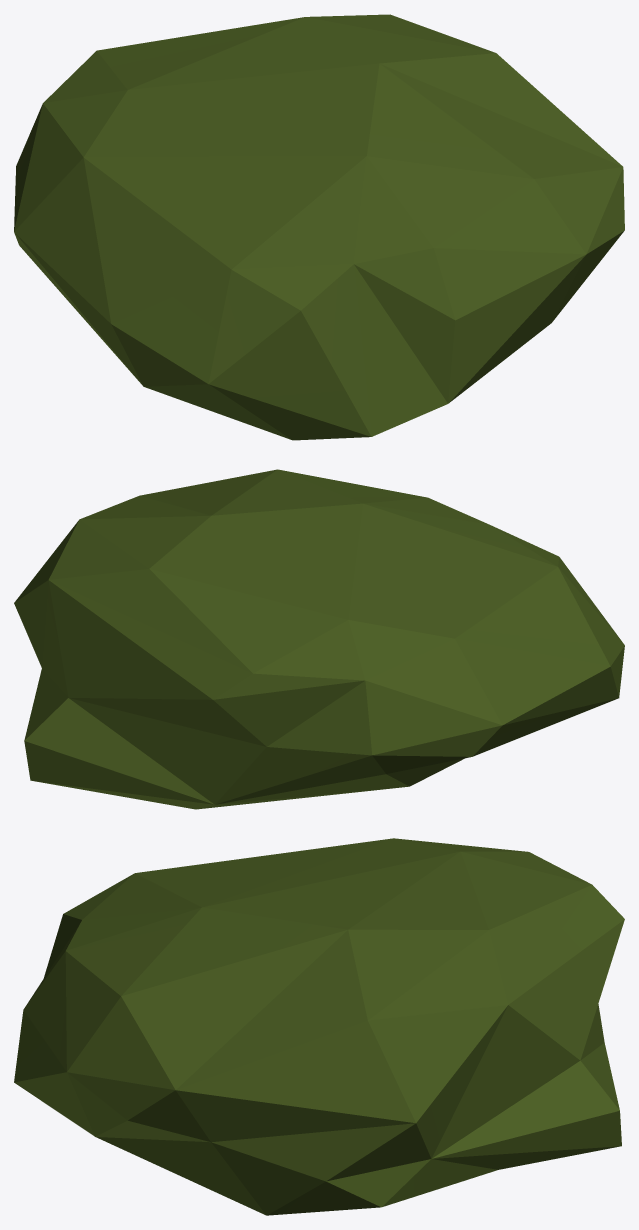
File: SM_bush_03.fbx
3 renders of one model, top to bottom at view 1: azimuth 30°, elevation 25°; view 2: azimuth 150°, elevation 25°; view 3: azimuth 270°, elevation 25°, orthographic. The views are drawn at different scales.
Parts seen in each view (by area): view 1: Object026; view 2: Object026; view 3: Object026.
Part boxes in pixels (x1,y1,x2,y2): Object026: [14, 14, 624, 440]; Object026: [14, 469, 624, 809]; Object026: [14, 838, 624, 1215].
Size of the model in its own units: 54.67 by 23.4 by 55.72.
